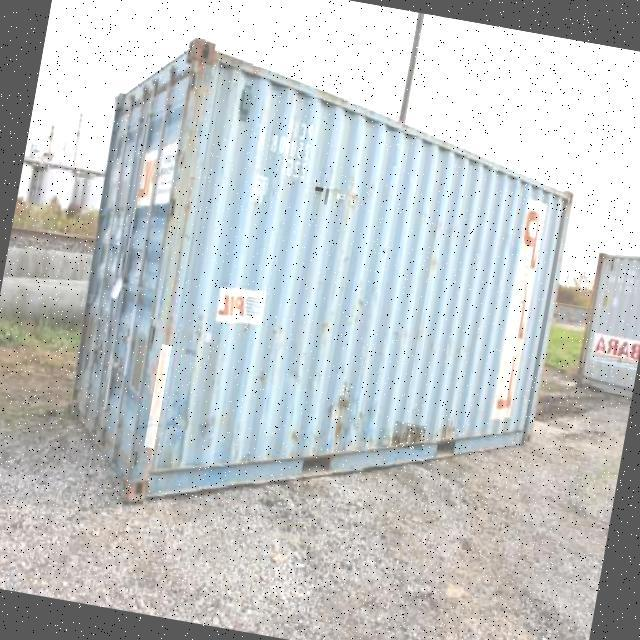Rust: (144, 344, 172, 448), (391, 421, 427, 451), (337, 381, 353, 411), (323, 188, 329, 204), (350, 193, 358, 202), (314, 187, 323, 194), (337, 193, 346, 199)
